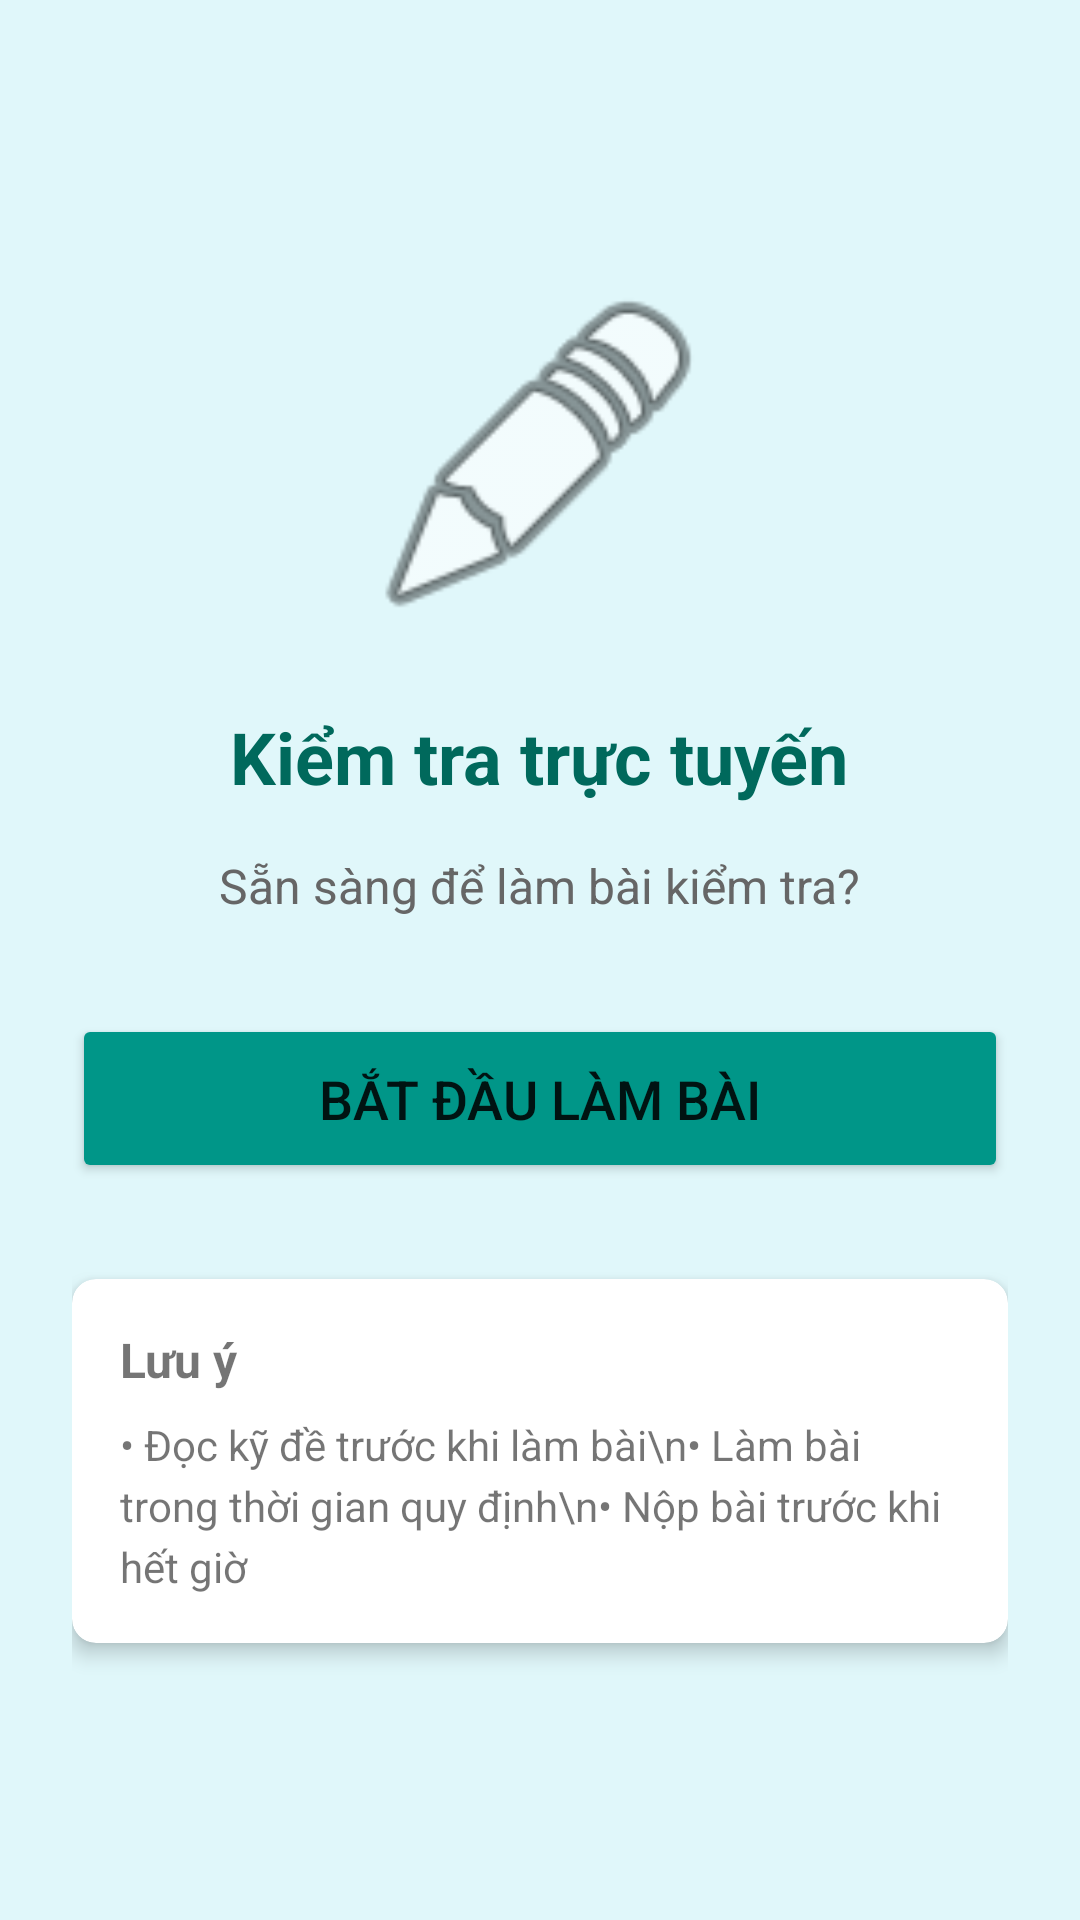

Where to tap for icons on this 1080 x 1920 app screen, as (x,y):
edit: (538,453)
